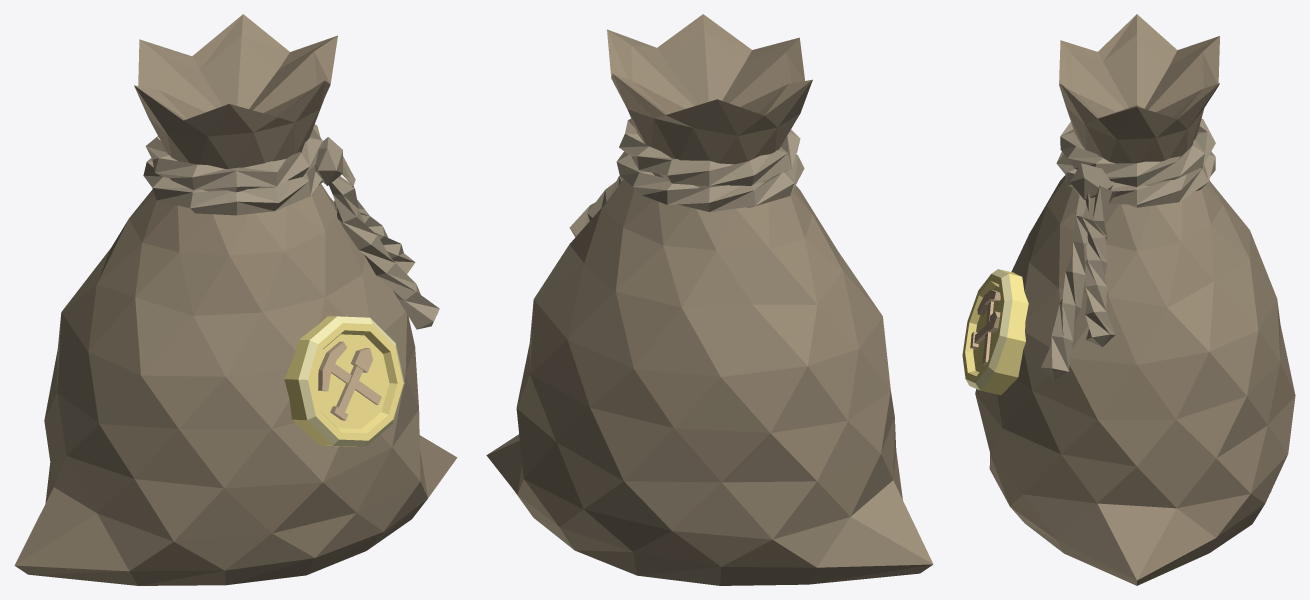
Rendered from loot-sack-4762f5.glb.
3 renders of one model, left to right at view 1: azimuth 30°, elevation 25°; view 2: azimuth 150°, elevation 25°; view 3: azimuth 270°, elevation 25°, orthographic. The views are drawn at different scales.
Parts seen in each view (by area): view 1: loot-sack-body, loot-sack-coin; view 2: loot-sack-body; view 3: loot-sack-body, loot-sack-coin.
Part boxes in pixels (box(x1,y1,x2,y2)): loot-sack-body: box(14, 14, 457, 585); loot-sack-coin: box(284, 316, 404, 447); loot-sack-body: box(486, 14, 933, 585); loot-sack-body: box(975, 14, 1295, 585); loot-sack-coin: box(962, 269, 1028, 395).
Bounding box in the file's own units: 0.6009 × 0.6021 × 0.4206.
